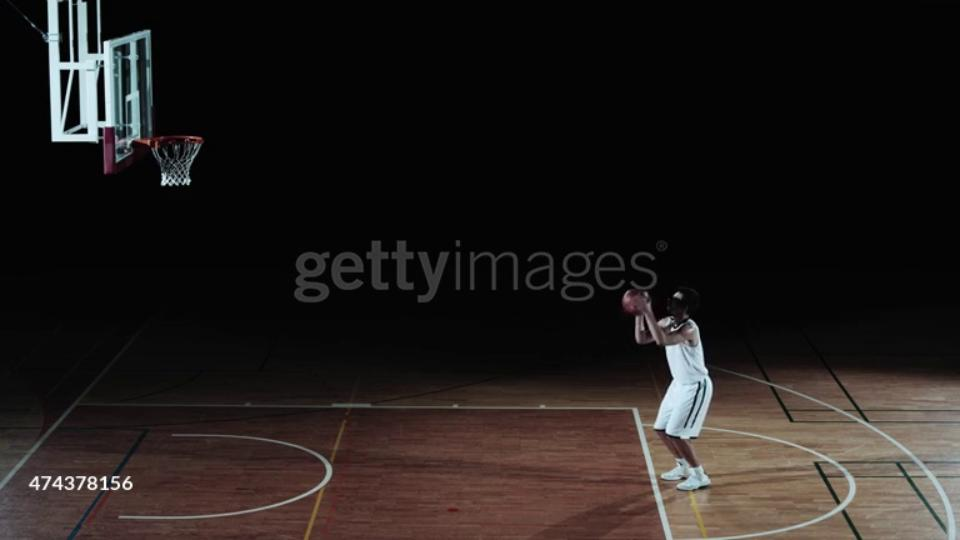hoop: (135, 136, 205, 159)
